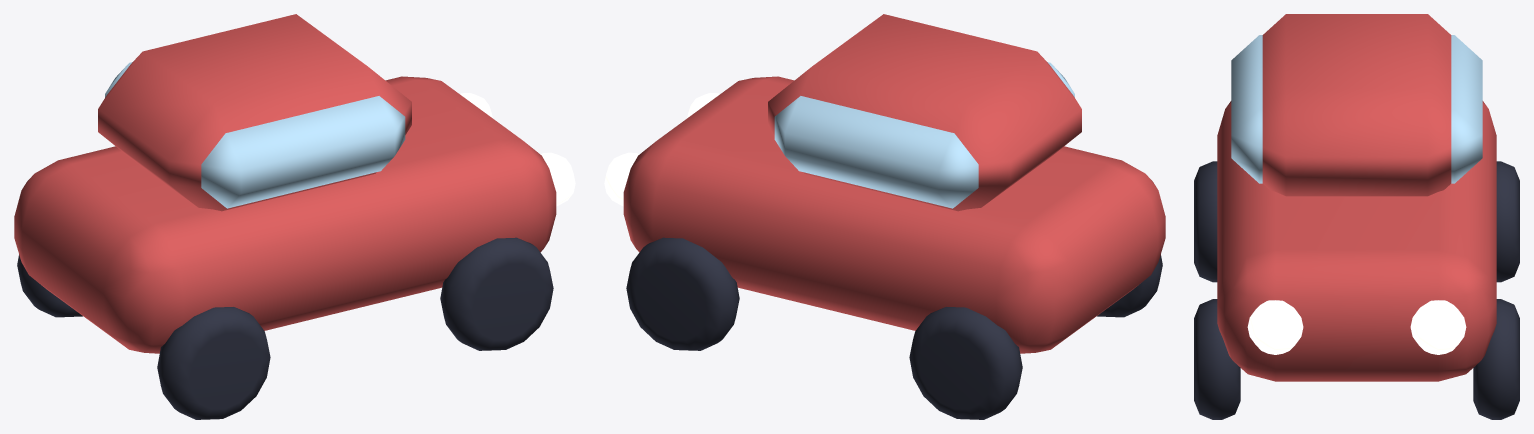
The model's file is car_red.glb.
The picture shows the model from 3 angles, left to right: view 1: azimuth 30°, elevation 25°; view 2: azimuth 150°, elevation 25°; view 3: azimuth 270°, elevation 25°; orthographic projection.
Visible parts, largest first — view 1: Cube; view 2: Cube; view 3: Cube.
Boxes of the visible parts, x1,y1,x2,y2 form: Cube: [14, 14, 575, 419]; Cube: [604, 14, 1165, 419]; Cube: [1194, 14, 1519, 419].
Size of the model in its own units: 0.232 by 0.1325 by 0.14.
